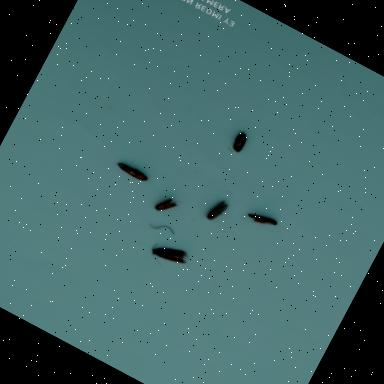pbw: (146, 237, 190, 272), (112, 158, 150, 186), (200, 194, 232, 227), (245, 204, 279, 232), (148, 191, 176, 217), (226, 128, 252, 156)
